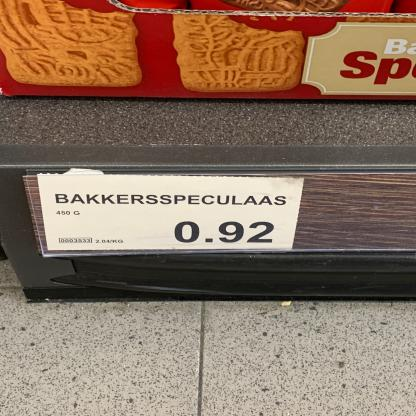prtg: (37, 175, 306, 251)
